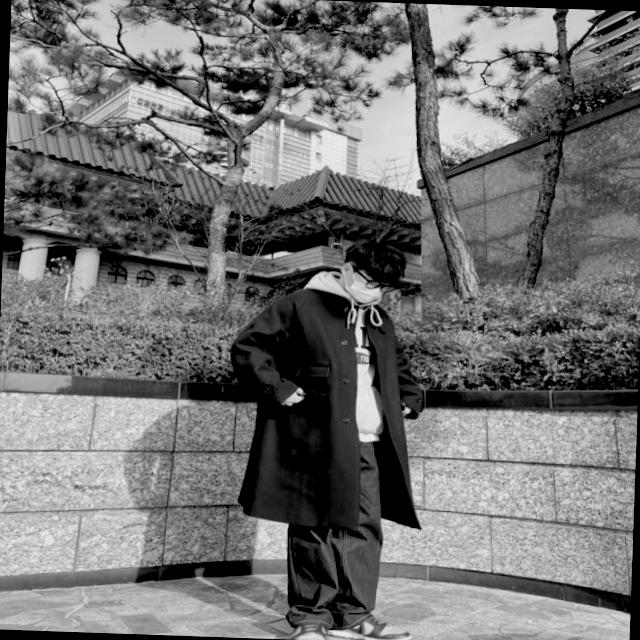coat: (227, 288, 435, 534)
denimpants: (282, 434, 388, 631)
hoodies: (296, 272, 394, 444)
